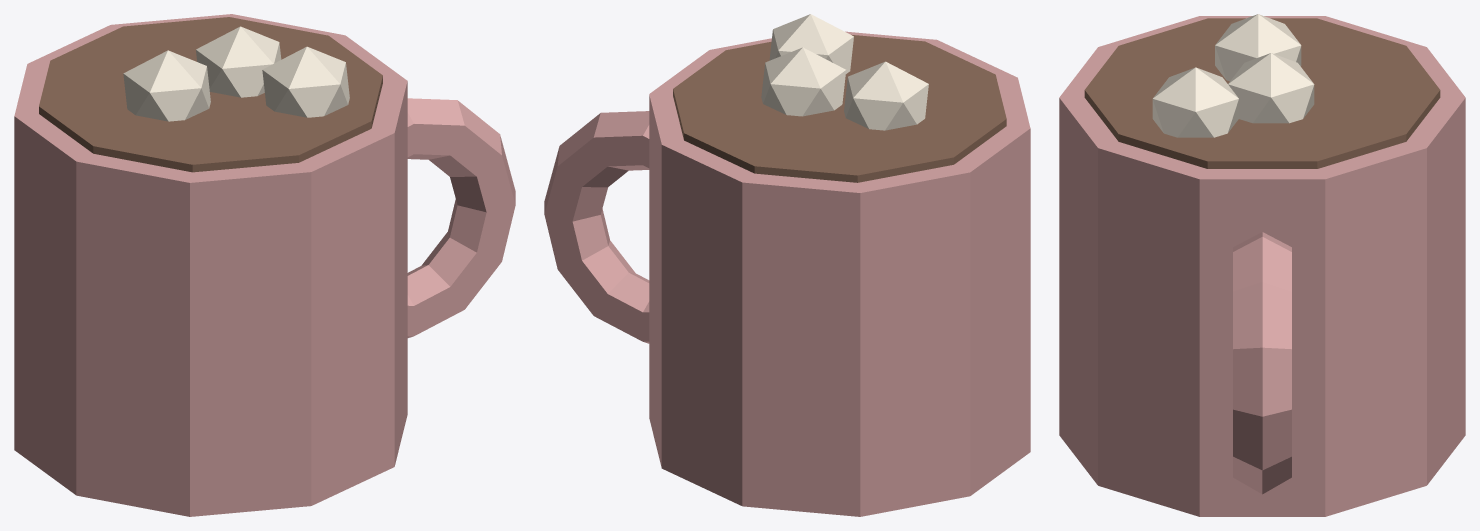
The model's file is sb_cocoa_mug.glb.
3 views of the same model, side by side, from view 1: azimuth 30°, elevation 25°; view 2: azimuth 150°, elevation 25°; view 3: azimuth 270°, elevation 25° (orthographic). The views are drawn at different scales.
Parts seen in each view (by area): view 1: cocoa_mug; view 2: cocoa_mug; view 3: cocoa_mug.
Boxes of the visible parts, left/top/right/bottom form: cocoa_mug: left=14, top=14, right=515, bottom=516; cocoa_mug: left=544, top=14, right=1030, bottom=516; cocoa_mug: left=1059, top=14, right=1465, bottom=516.
Size of the model in its own units: 0.3241 by 0.26 by 0.24.
